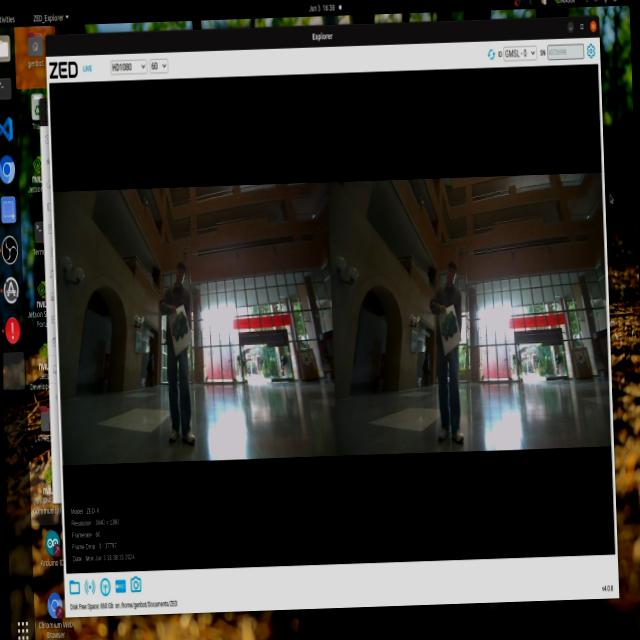green: (438, 304, 462, 344), (169, 317, 197, 343)
